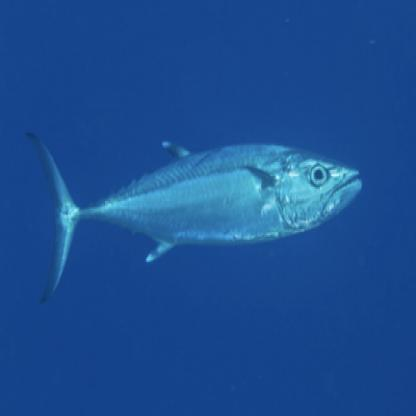Scombridae -Tunas-: (20, 124, 366, 310)
